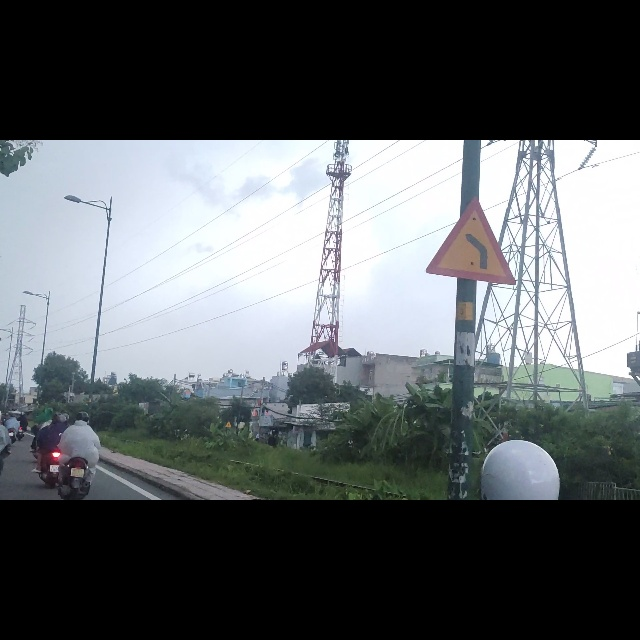bien_nguy_hiem: (426, 101, 517, 258)
